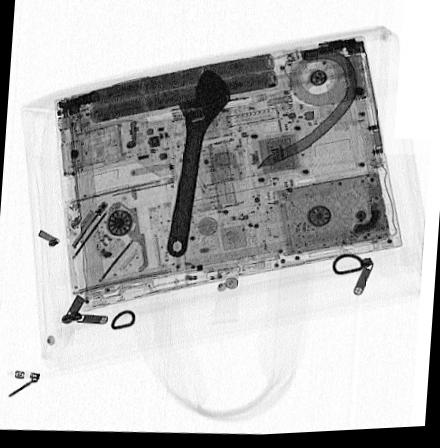Wrench: (167, 70, 233, 260)
